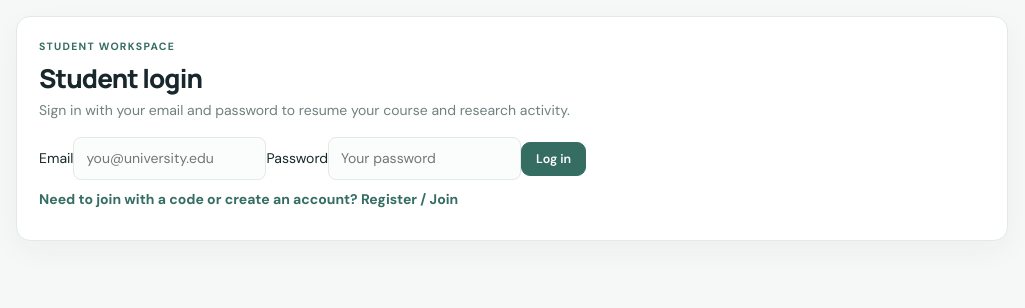
student integration › Join page & returning student login › shows helpful error on invalid credentials
In the field with placeholder "you@university.edu": (170, 158) [74,137,266,180], type "student@example.com"
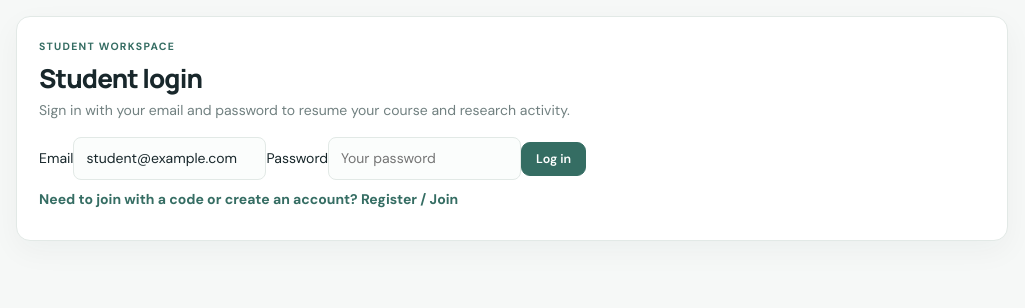
In the password field with placeholder "Your password": (425, 158) [328,137,521,180], type "wrongpassword"
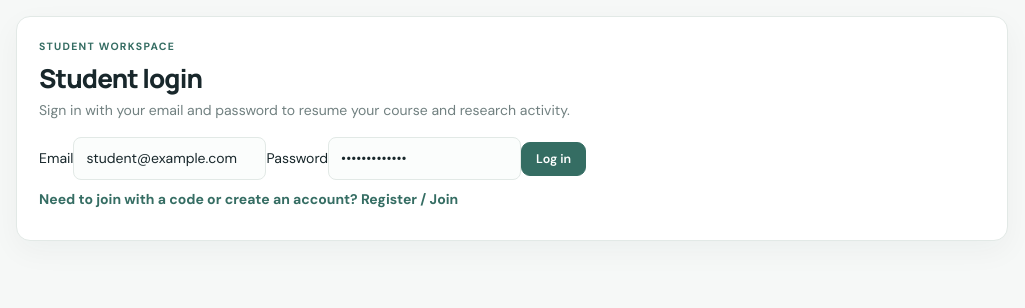
Click the button "Log in": (554, 159) [521,142,586,176]
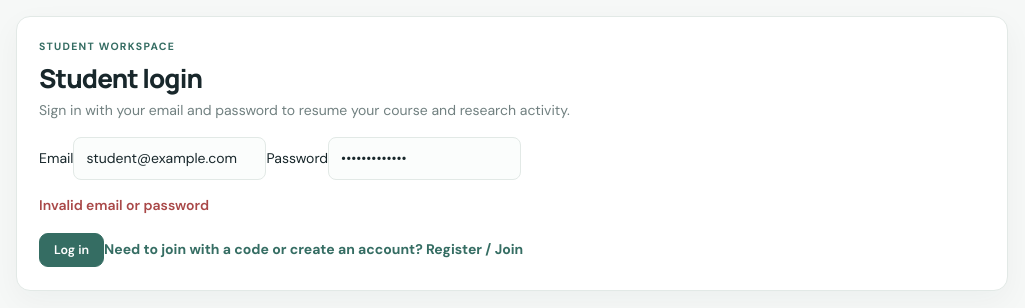
Now the message reads "Invalid email or password", box [39,196,209,214]
